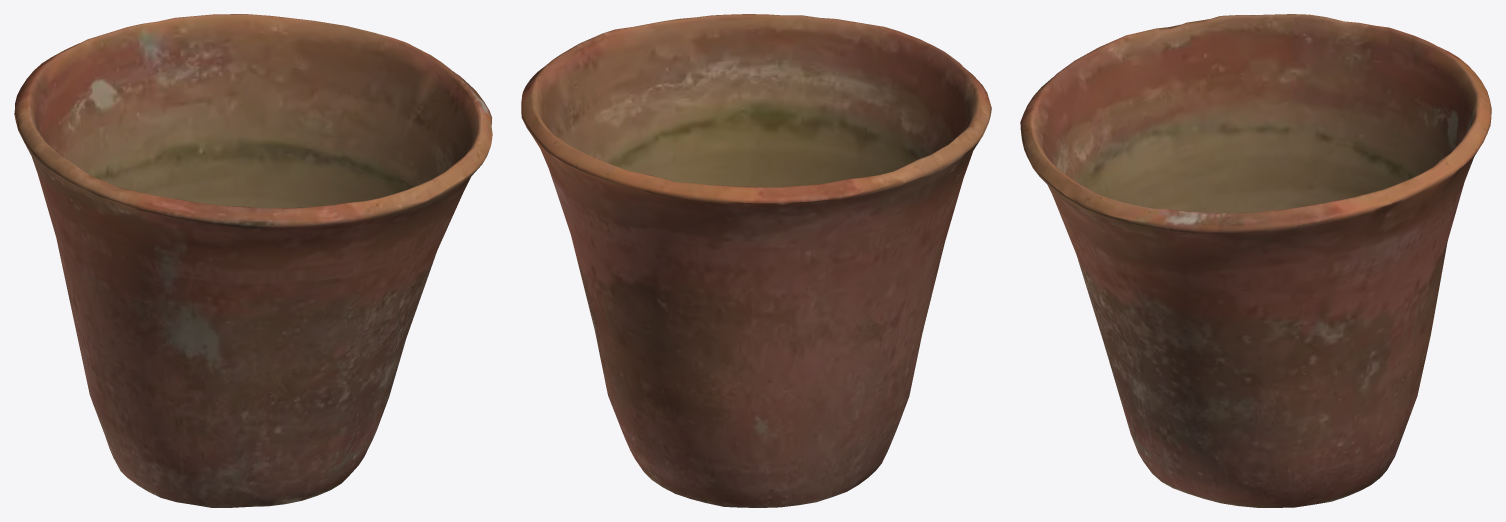
The model's file is planter_pot_clay.glb.
3 views of the same model, side by side, from view 1: azimuth 30°, elevation 25°; view 2: azimuth 150°, elevation 25°; view 3: azimuth 270°, elevation 25° (orthographic).
Parts seen in each view (by area): view 1: planter_pot_clay; view 2: planter_pot_clay; view 3: planter_pot_clay.
Part boxes in pixels (<box>): planter_pot_clay: <box>14,14,492,507</box>; planter_pot_clay: <box>521,14,991,507</box>; planter_pot_clay: <box>1020,14,1491,507</box>.
Size of the model in its own units: 0.266 by 0.2219 by 0.2635.
1 material, 1 textured.
